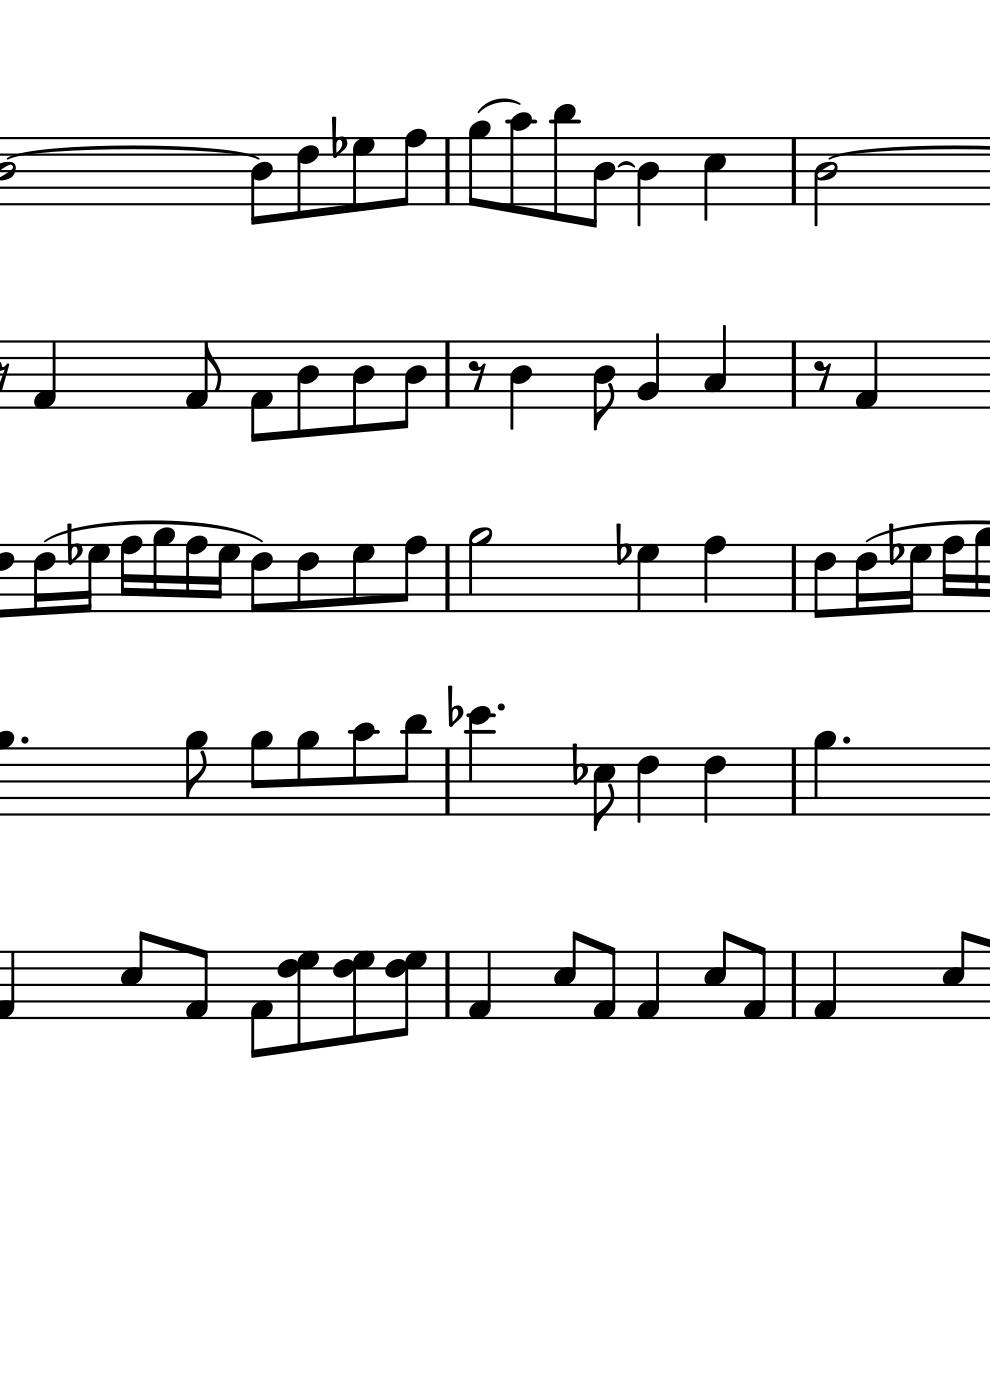16_6: (853, 543, 879, 617), (32, 542, 57, 616)
16_7: (899, 540, 932, 617), (78, 540, 110, 617), (211, 540, 240, 615)
16_8: (183, 535, 209, 614), (940, 533, 965, 613), (118, 535, 144, 613)
16_9: (150, 524, 177, 617), (971, 525, 990, 615)
2_4: (812, 137, 838, 230)
2_9: (466, 526, 493, 615)
4_1: (31, 340, 59, 411), (634, 950, 662, 1021), (811, 950, 839, 1021), (853, 340, 880, 411), (467, 950, 493, 1021)
4_12: (465, 702, 495, 821)
4_2: (636, 332, 661, 410)
4_3: (702, 323, 727, 411)
4_4: (508, 337, 534, 433), (635, 136, 660, 230)
4_5: (702, 136, 727, 224)
4_6: (702, 747, 727, 825), (635, 747, 660, 825)
4_7: (635, 543, 661, 614)
4_8: (701, 535, 727, 615)
4_9: (812, 731, 838, 817)
8_1: (247, 948, 273, 1062), (183, 338, 223, 411), (247, 338, 274, 445), (741, 942, 768, 1021), (591, 942, 617, 1021), (183, 945, 210, 1020)
8_10: (507, 112, 536, 219), (350, 722, 379, 818)
8_11: (550, 102, 580, 226), (396, 713, 431, 819)
8_4: (392, 338, 429, 432), (585, 134, 616, 232), (294, 338, 321, 440), (349, 338, 376, 436), (591, 338, 617, 434), (249, 137, 274, 227)
8_5: (119, 928, 151, 1021), (551, 929, 582, 1021), (702, 929, 733, 1021), (941, 929, 972, 1021), (591, 746, 616, 833)
8_6: (294, 136, 320, 220), (811, 542, 837, 621), (247, 543, 274, 614), (295, 542, 320, 613)
8_7: (350, 136, 376, 213), (350, 543, 376, 613)
8_7_8: (275, 949, 324, 1055), (329, 947, 376, 1047), (382, 949, 430, 1038)
8_8: (394, 127, 429, 209), (394, 535, 427, 614)
8_9: (183, 731, 210, 818), (249, 729, 274, 818), (295, 731, 320, 818), (467, 121, 492, 210)
Flat: (885, 522, 904, 568), (613, 521, 632, 566), (329, 114, 347, 159), (64, 522, 82, 567), (445, 683, 463, 728), (570, 742, 587, 787)
Rests8: (466, 359, 487, 395), (812, 359, 832, 393)
Single_barline: (783, 951, 804, 1020), (437, 544, 457, 611), (437, 341, 456, 408), (784, 544, 804, 612), (784, 342, 802, 408), (785, 138, 804, 204), (785, 749, 804, 814), (440, 951, 457, 1019), (439, 138, 456, 205), (439, 749, 455, 814)
Slur: (44, 517, 264, 545), (477, 97, 522, 115)
dot: (838, 734, 852, 747), (17, 734, 31, 746), (495, 702, 507, 714)
